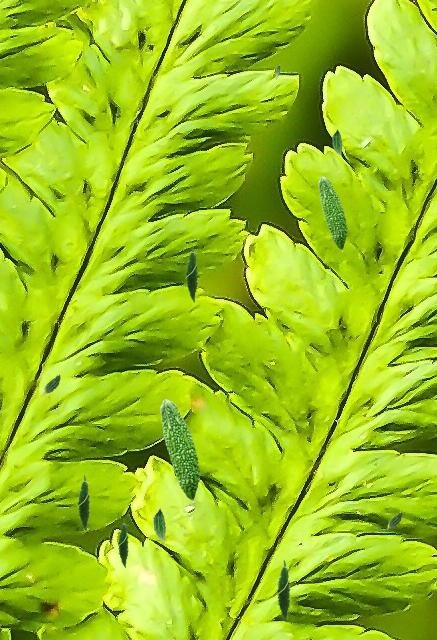ampalaya: (159, 398, 201, 504), (318, 175, 348, 253), (275, 559, 292, 622), (184, 245, 199, 303), (76, 474, 91, 532), (116, 518, 130, 568), (152, 507, 166, 541), (42, 374, 60, 395), (331, 128, 342, 156), (386, 511, 402, 530), (275, 64, 280, 80)
